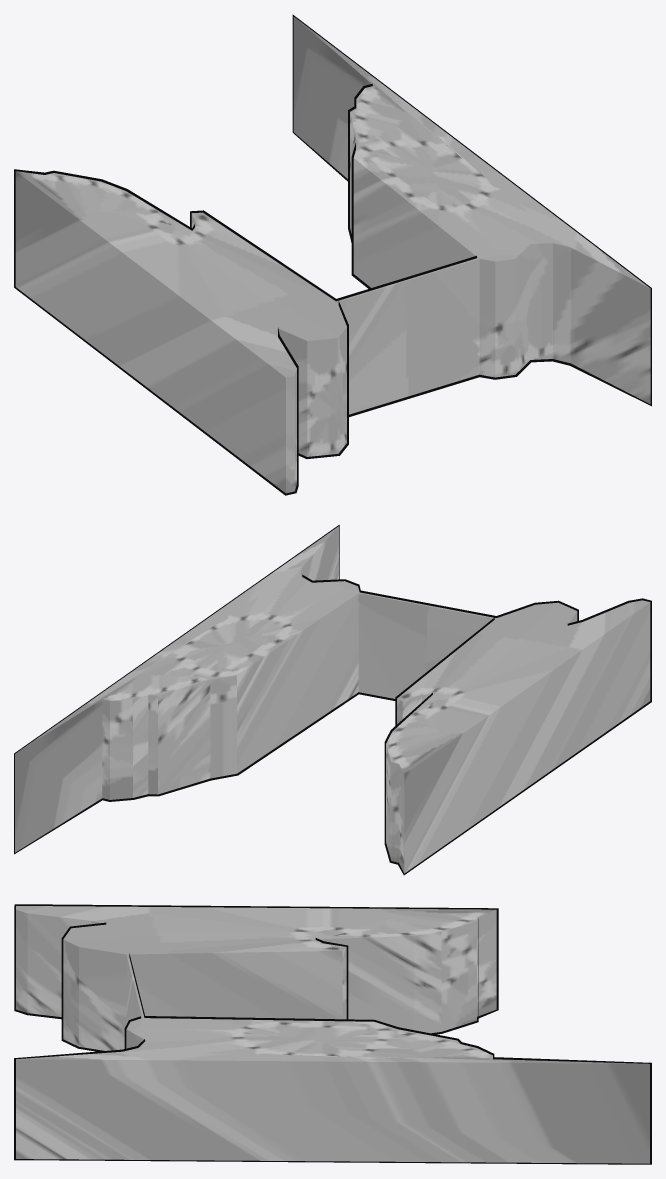
The model's file is Building_HoldingPlatform_Things_Building_HoldingPlatform_HoldingPlatform_ChainsUntethered.glb.
3 views of the same model, one above another, from view 1: azimuth 30°, elevation 25°; view 2: azimuth 150°, elevation 25°; view 3: azimuth 270°, elevation 25° (orthographic). The views are drawn at different scales.
Parts seen in each view (by area): view 1: Body, Outline; view 2: Body, Outline; view 3: Body, Outline.
Boxes of the visible parts, left/top/right/bottom form: Body: left=15, top=16, right=650, bottom=493; Outline: left=14, top=14, right=651, bottom=495; Body: left=15, top=526, right=650, bottom=873; Outline: left=14, top=524, right=651, bottom=875; Body: left=16, top=906, right=649, bottom=1163; Outline: left=14, top=904, right=651, bottom=1164.
Size of the model in its own units: 1.33 by 0.4043 by 2.25.
Materials: 2 (1 with a texture image).
